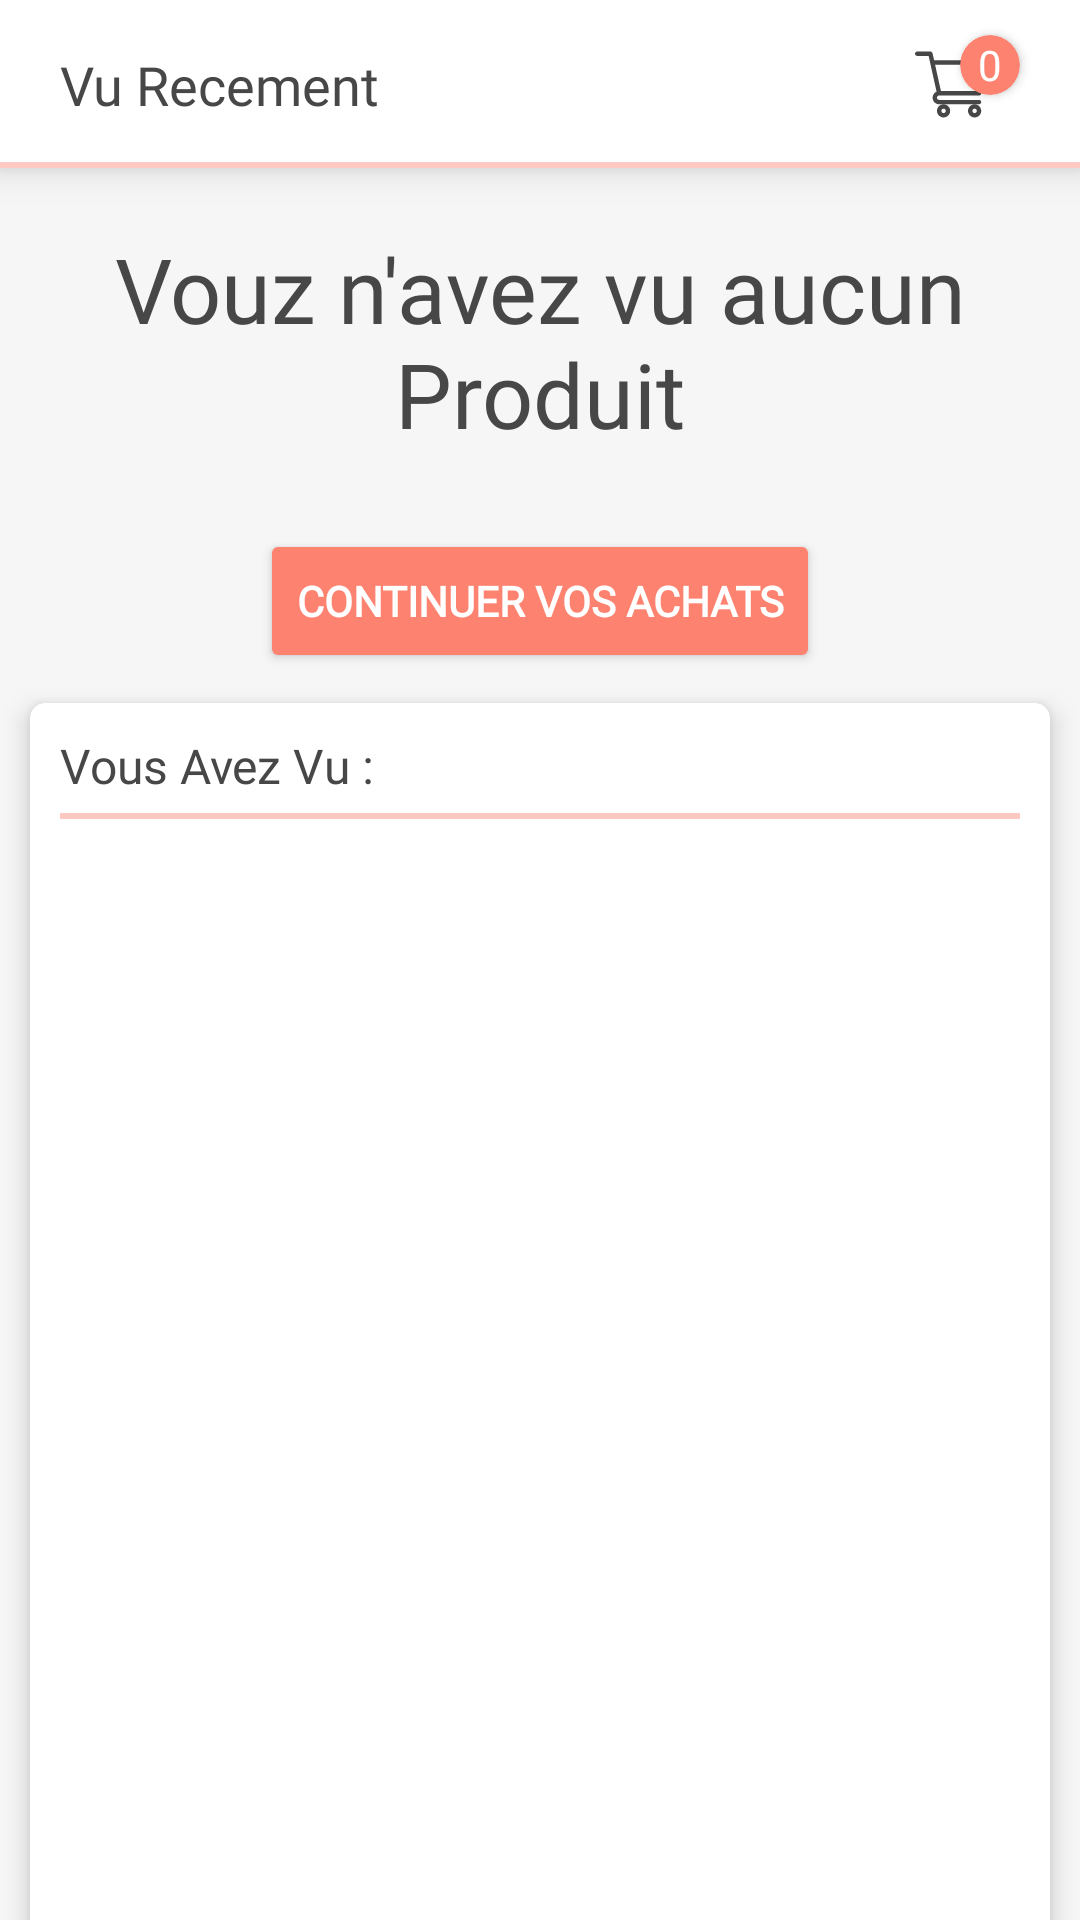

Icons on this 1080 × 1920 Android screen, each with its box as (x1, y1, x2, y2):
commerce and shopping: (915, 47, 990, 118)
